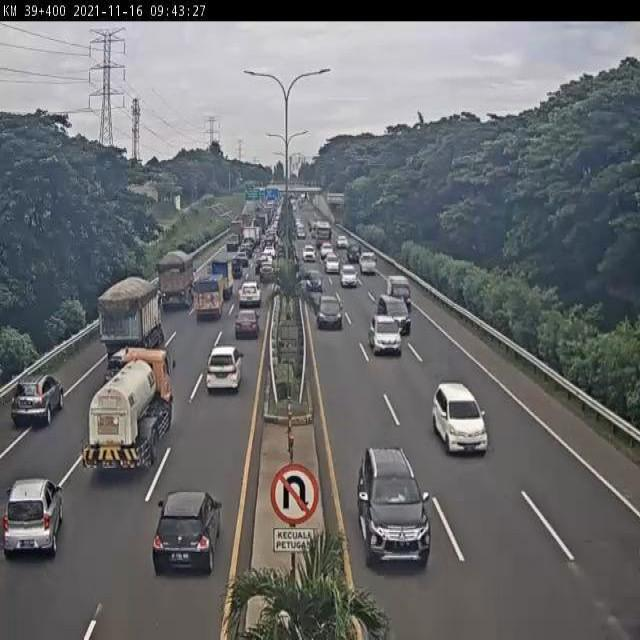car: (364, 452, 420, 545), (162, 491, 211, 592), (1, 483, 58, 565), (6, 371, 61, 439), (436, 381, 483, 452), (206, 349, 238, 403), (381, 296, 410, 331), (371, 316, 398, 351), (234, 313, 256, 343), (321, 294, 341, 326), (239, 284, 260, 308), (358, 249, 376, 272), (304, 269, 321, 292), (340, 263, 356, 287), (343, 237, 359, 260), (318, 236, 332, 256), (261, 261, 272, 284), (326, 255, 340, 273), (305, 248, 317, 265)
truck: (81, 345, 177, 472), (96, 273, 168, 363), (160, 250, 193, 310), (193, 271, 221, 323), (208, 259, 234, 300), (387, 272, 411, 307)
